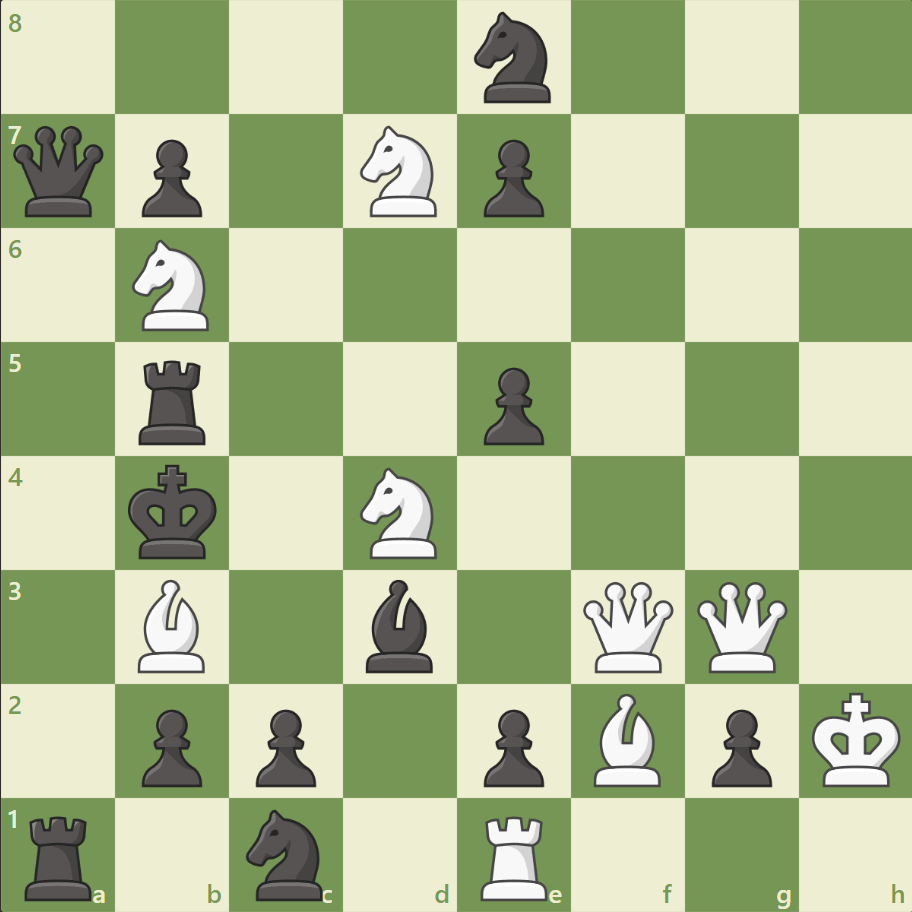B: (585, 687, 669, 790), (131, 574, 215, 676)
K: (806, 685, 906, 793)
N: (124, 234, 222, 337), (351, 461, 449, 564), (351, 121, 449, 223)
Q: (578, 576, 677, 676), (691, 576, 790, 676)
R: (473, 806, 556, 904)
b: (358, 574, 442, 676)
k: (124, 458, 224, 566)
n: (465, 7, 562, 110), (238, 802, 335, 904)
p: (133, 132, 208, 223), (474, 132, 549, 223), (474, 359, 549, 450), (133, 700, 208, 791), (247, 700, 322, 791), (474, 700, 549, 791), (701, 700, 776, 791)
q: (10, 122, 109, 222)
r: (19, 806, 102, 904), (133, 352, 215, 449)
